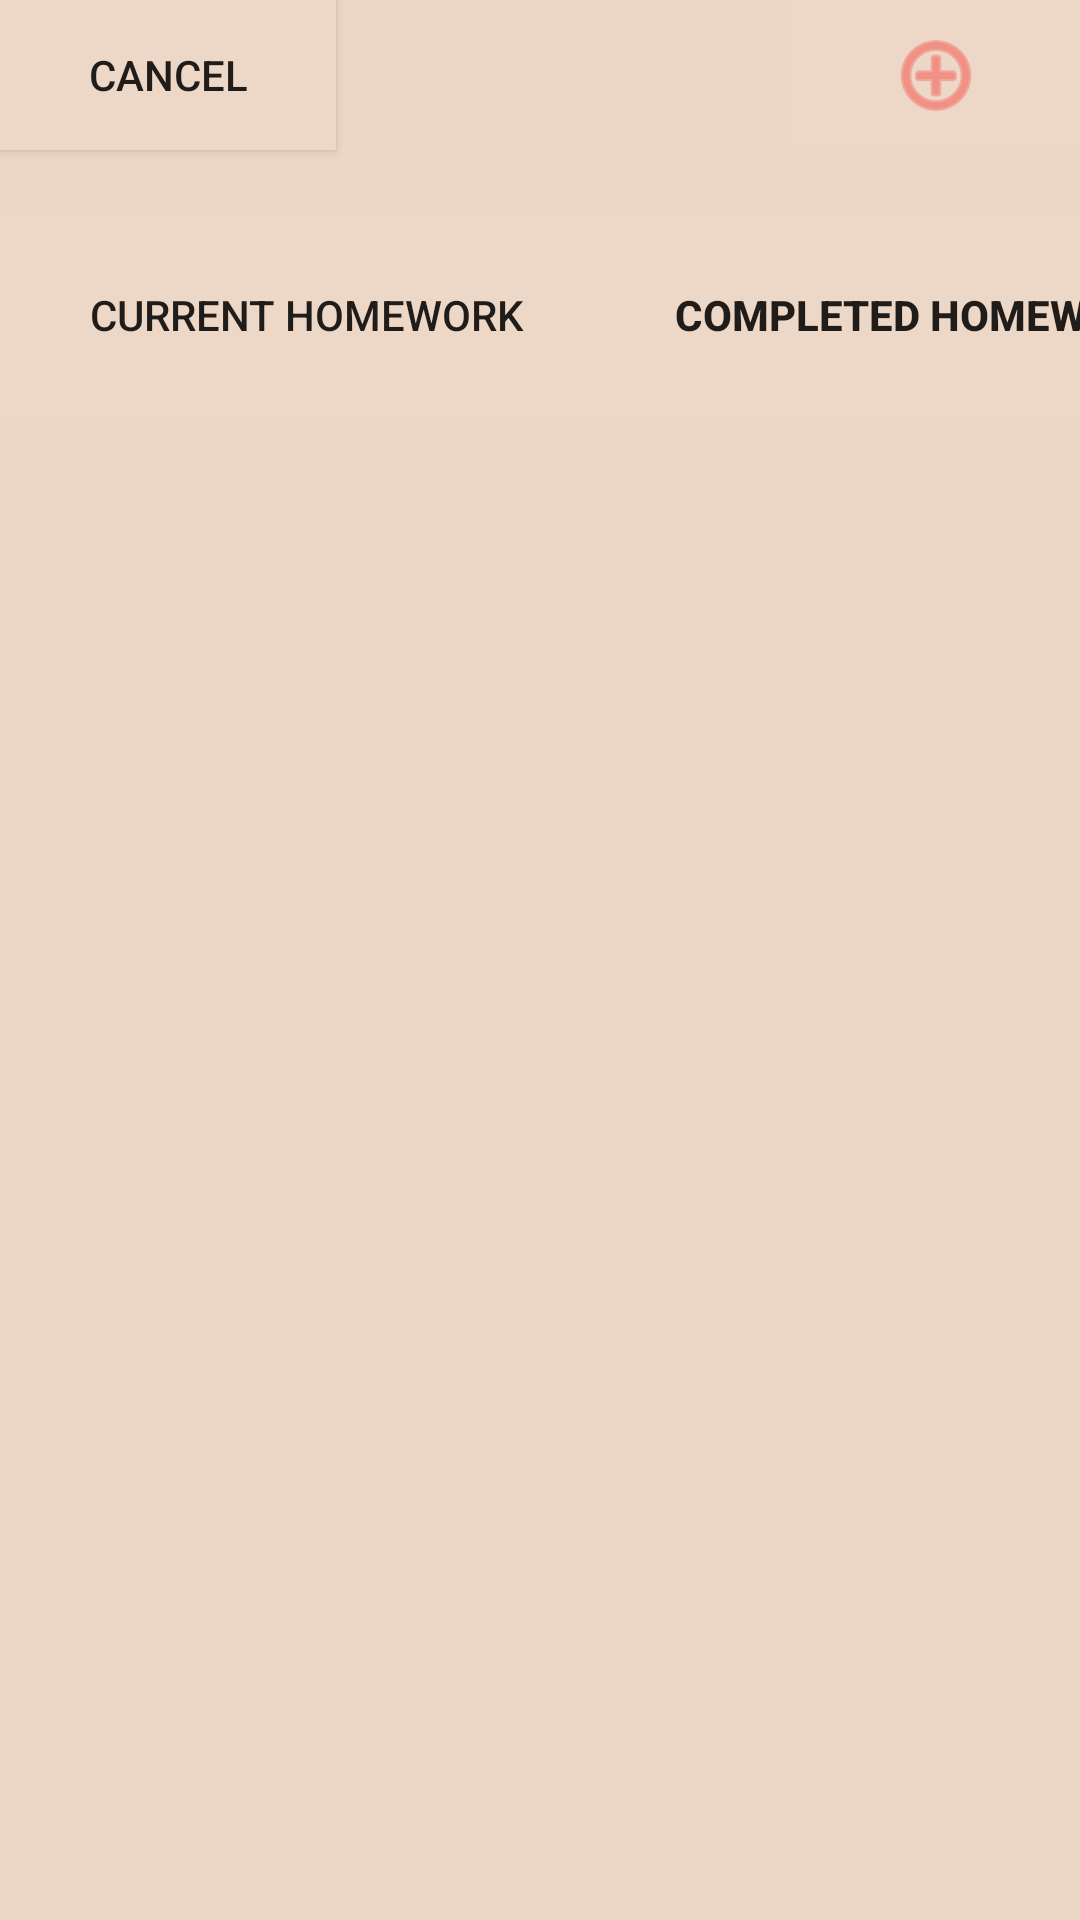

Locate icon controls on the screen. Image size 1080w x 1920h, boxes as [x1=x1, y1=y1, x2=x2, y2=y2].
this is how you can quick add a homework assignment: [x1=901, y1=40, x2=971, y2=111]
